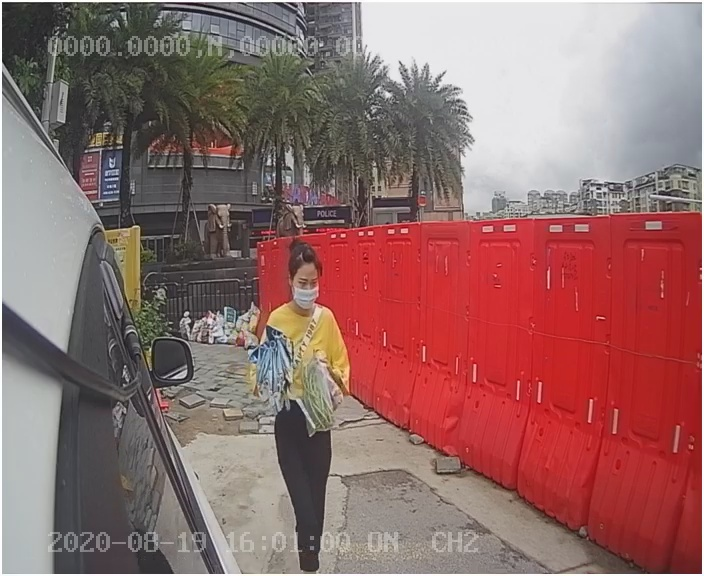person: (253, 236, 368, 534)
